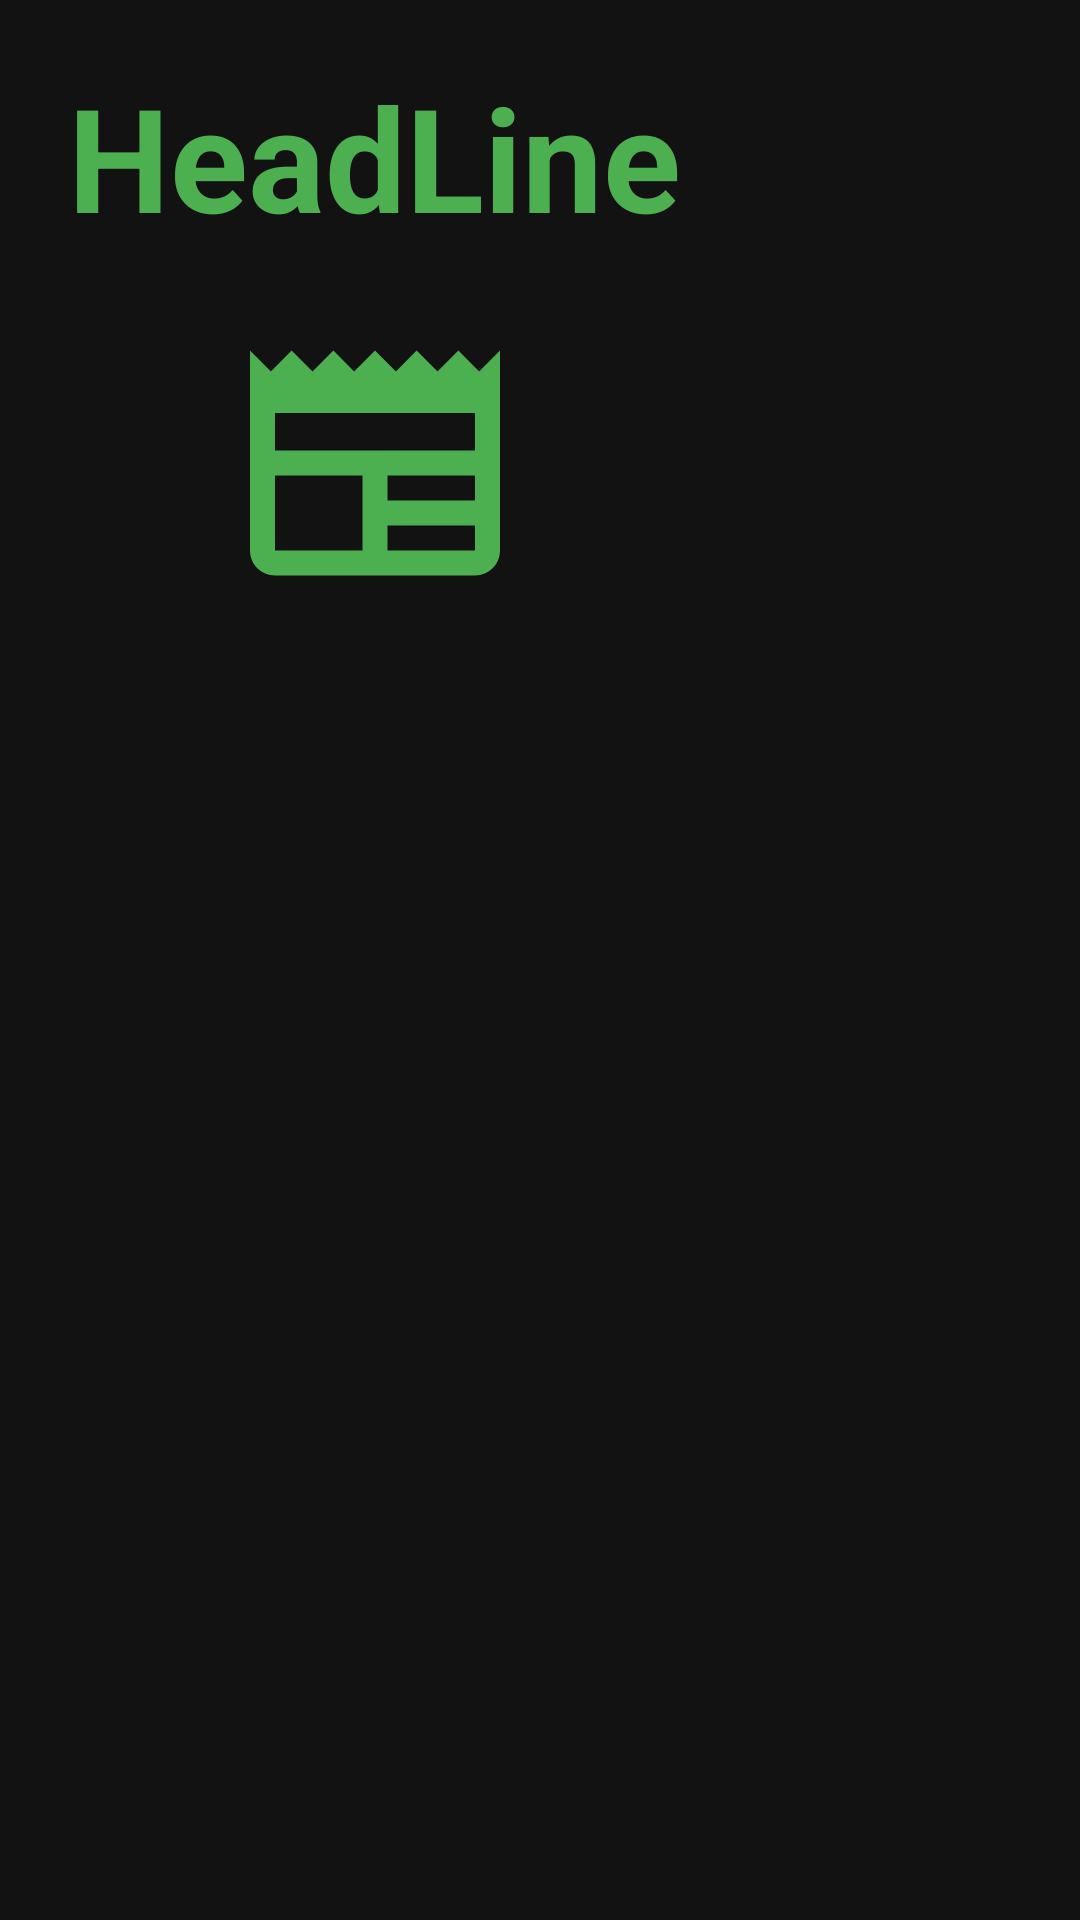

Icons on this 1080x1920 Android screen, each with its box as (x1, y1, x2, y2):
newspaper: (250, 350, 500, 576)
